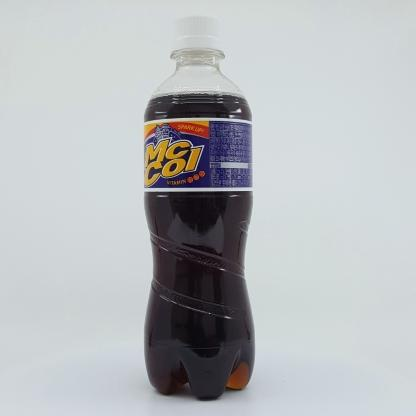-----500ML: (143, 15, 255, 399)
